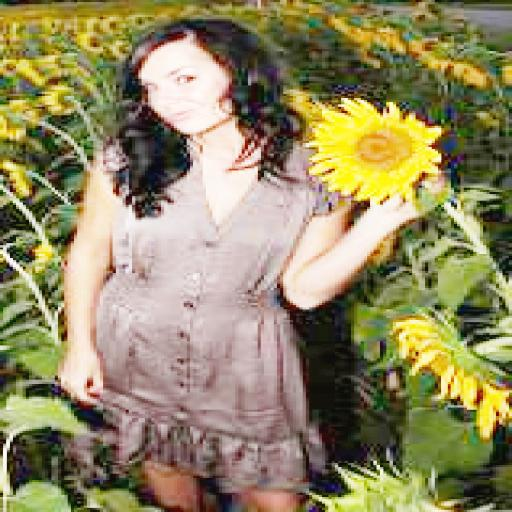sunflower: (309, 94, 441, 205)
